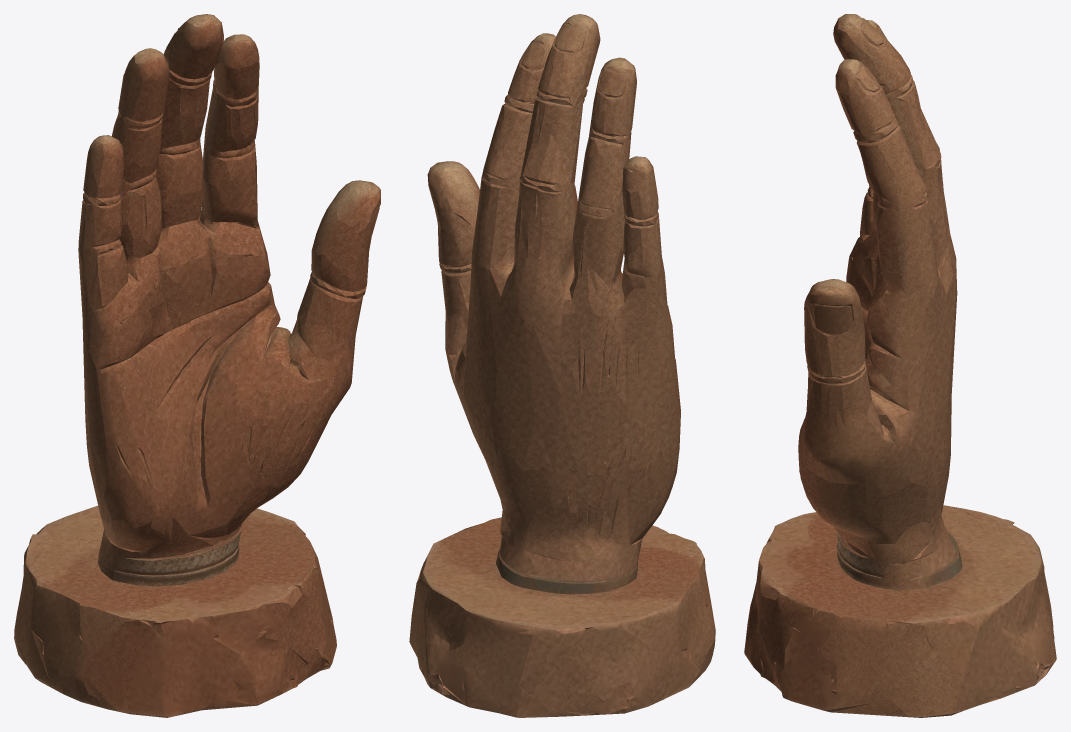
The model's file is hand.glb.
3 views of the same model, side by side, from view 1: azimuth 30°, elevation 25°; view 2: azimuth 150°, elevation 25°; view 3: azimuth 270°, elevation 25° (orthographic). The views are drawn at different scales.
Parts seen in each view (by area): view 1: mesh_node; view 2: mesh_node; view 3: mesh_node.
Part boxes in pixels (bbox=[...]): mesh_node: bbox=[14, 14, 380, 717]; mesh_node: bbox=[409, 14, 715, 717]; mesh_node: bbox=[744, 14, 1056, 717].
Bounding box in the file's own units: 0.9359 × 1.9 × 0.8429.
1 material, 1 textured.
